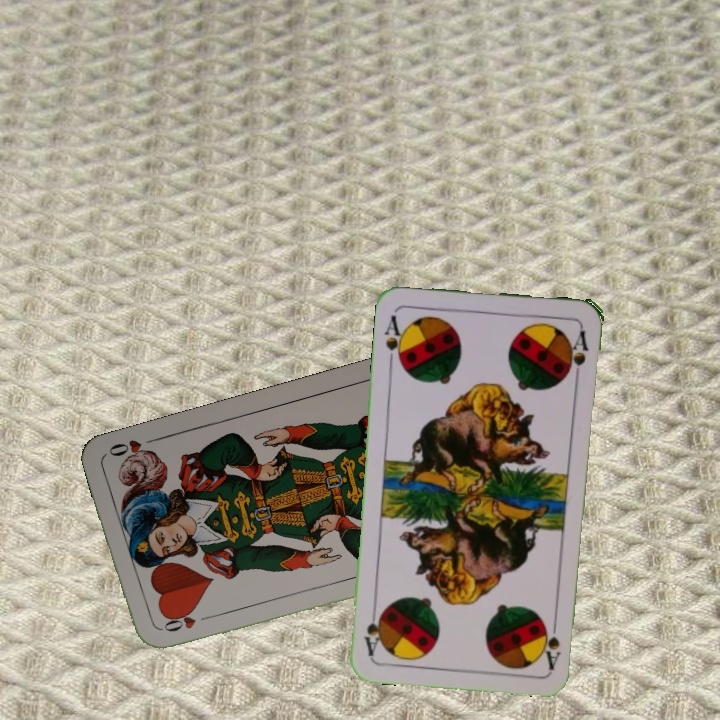HO: (155, 610, 214, 635)
SA: (380, 311, 408, 368), (540, 612, 563, 672)
